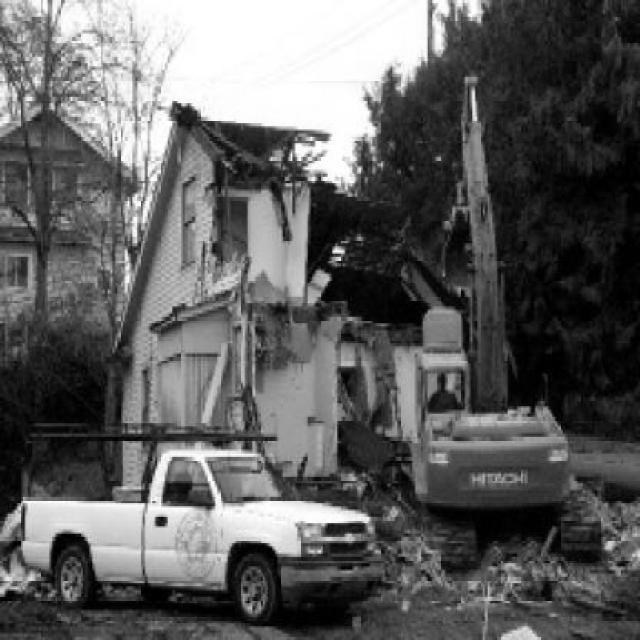Construction Equipment: (421, 76, 601, 570)
Pickup: (22, 449, 384, 626)
